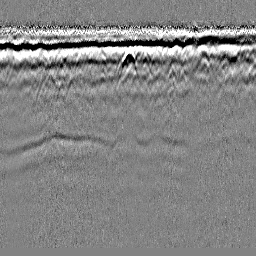cavity: (116, 47, 141, 82)
